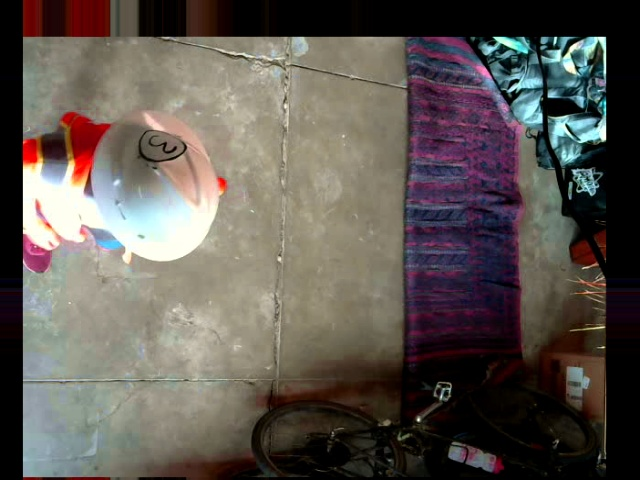three: (140, 129, 186, 163)
